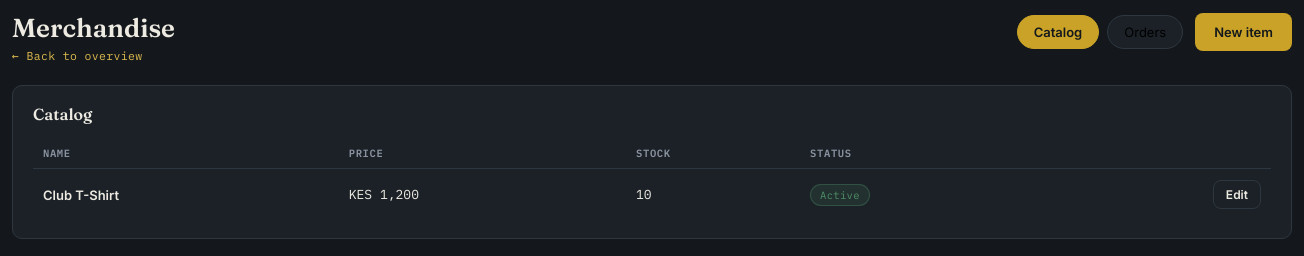
Scenario: MerchandiseAdmin › switches to the Orders tab and lists orders with a product/customer summary
The width and height of the screenshot is (1304, 256).
Expected: the table is shown, x1=33 y1=138 x2=1271 y2=220
Click the button "Orders". click: (1145, 32)
box: x1=1107 y1=15 x2=1183 y2=49
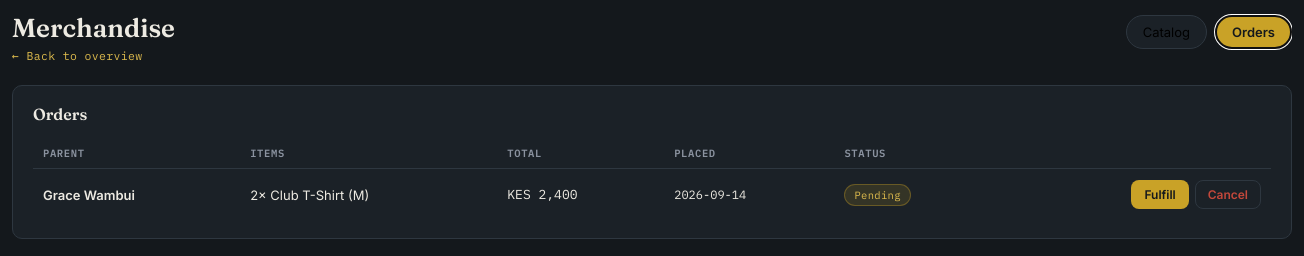
Expected: the text "Grace Wambui" is shown, x1=33 y1=168 x2=240 y2=220
Expected: the text "2× Club T-Shirt (M)" is shown, x1=240 y1=168 x2=497 y2=220
Expected: the text "KES 2,400" is shown, x1=497 y1=168 x2=664 y2=220
